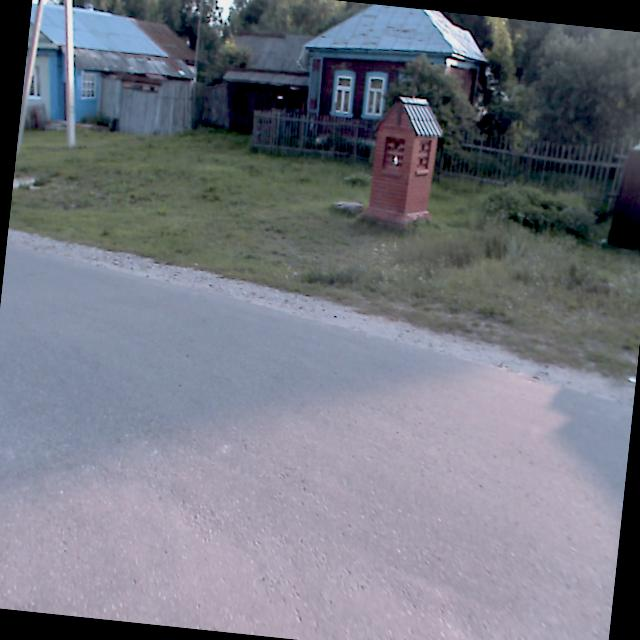road: (0, 241, 632, 640)
